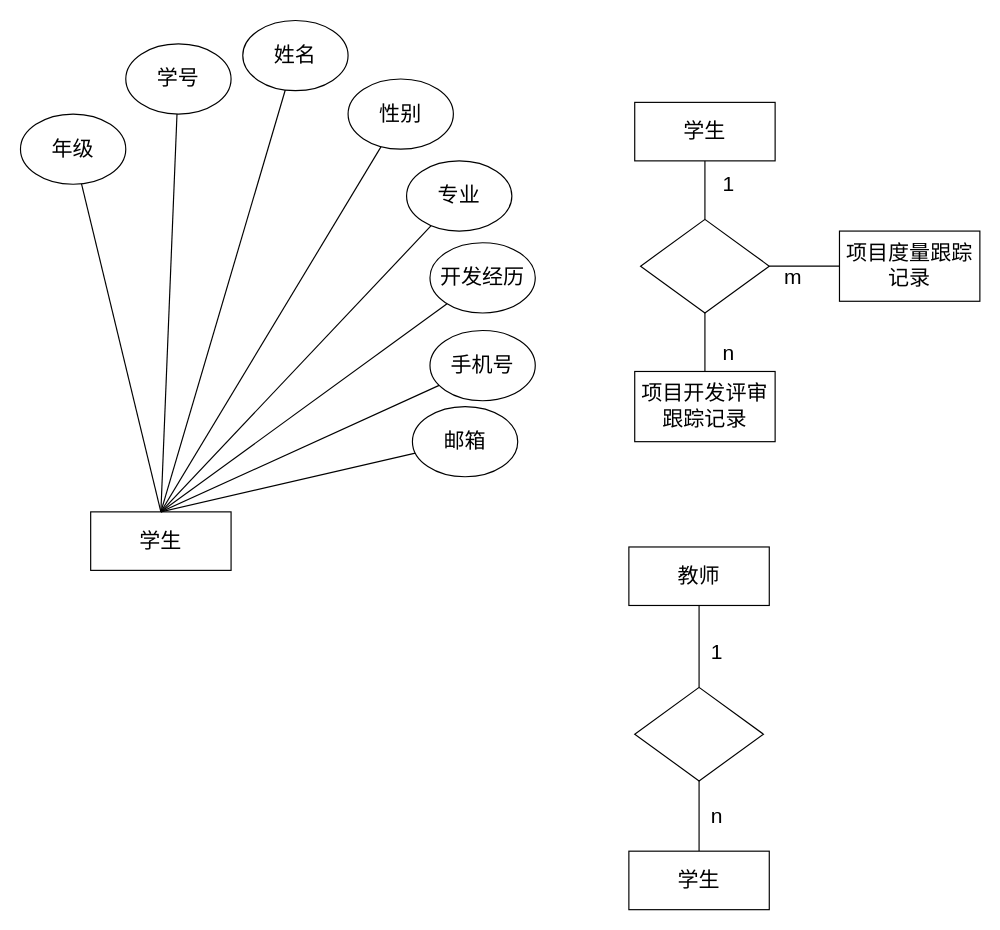
Some shapes in this 1000 by 930 pixel diagram are drawn without their labels. The centre of each missing label's shape, as x and y in pixels:
"拥有" goes at [704,265].
"面试管理" goes at [698,733].
